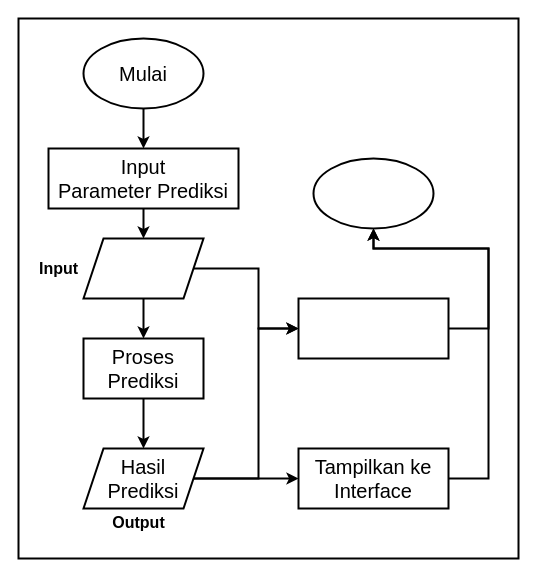
Some shapes in this 536 by 576 pixel diagram are drawn without their labels. The shapes that lost their labels are listed below. From the top down, each one's centre as x and y in pixels, then its label:
pixel 373 193: Selesai
pixel 143 268: Data
pixel 373 328: Masukkan ke DataBase
